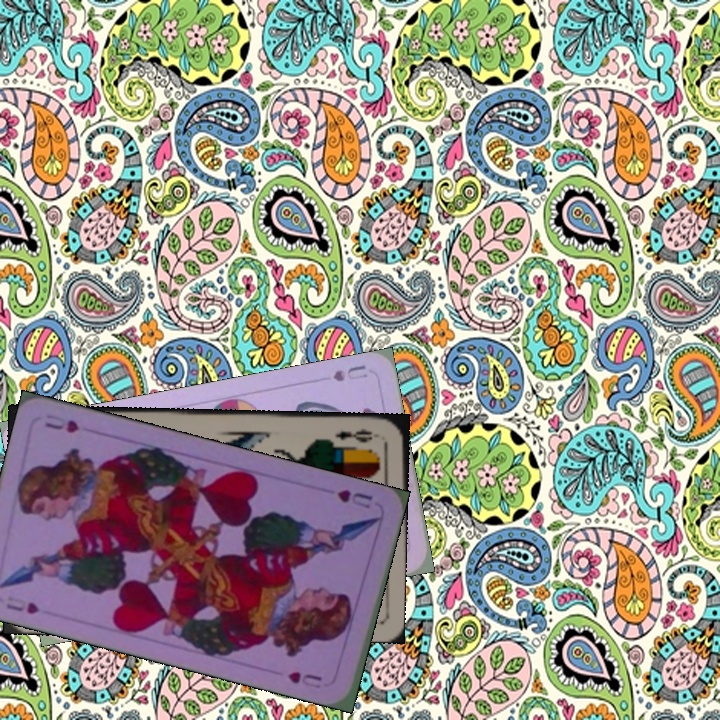EO: (331, 424, 382, 445)
HU: (333, 485, 376, 511), (2, 598, 43, 617)
SU: (329, 360, 370, 384)
